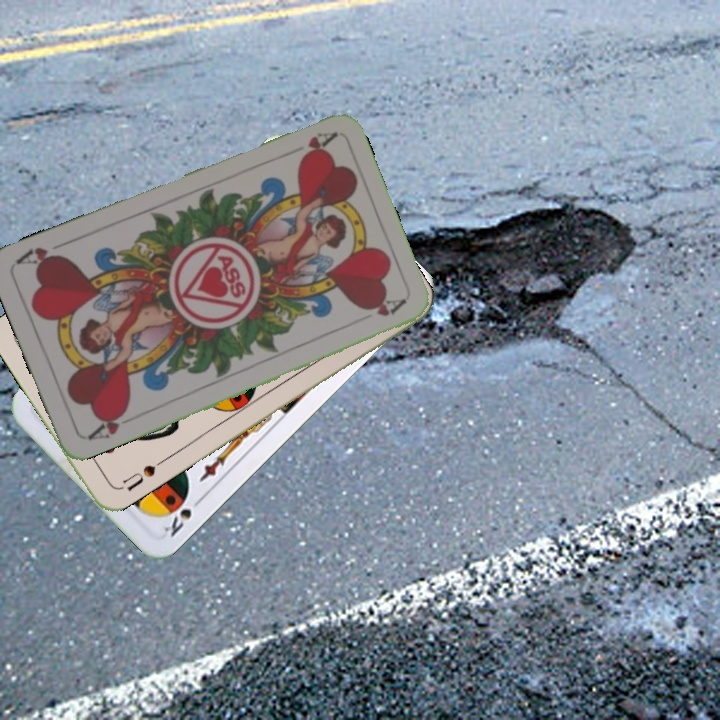HA: (83, 405, 130, 443), (294, 127, 338, 164)
SK: (159, 492, 206, 540)
SU: (114, 455, 167, 494)
